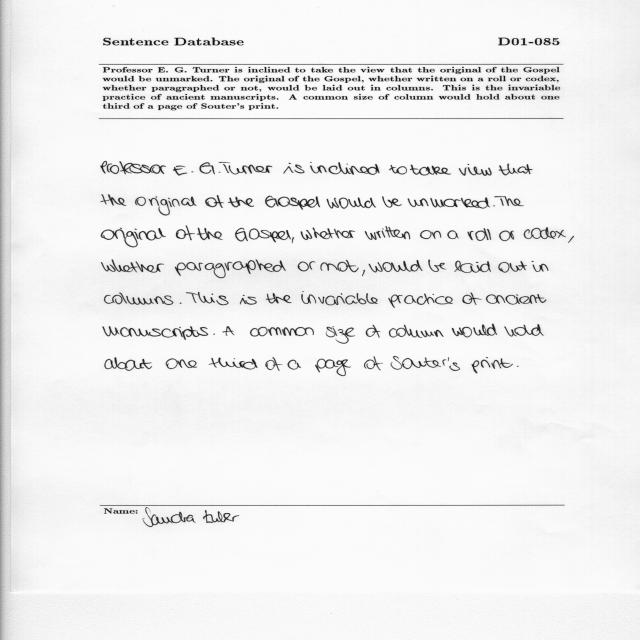word: (175, 260, 286, 278), (103, 326, 208, 340), (101, 228, 166, 247), (135, 197, 196, 216), (391, 356, 460, 371), (388, 293, 453, 308), (301, 293, 378, 305), (310, 162, 380, 175), (408, 198, 490, 209), (101, 162, 166, 175), (105, 293, 174, 305), (101, 260, 164, 273), (235, 228, 291, 242), (265, 196, 320, 210), (301, 227, 355, 240), (389, 325, 443, 338), (472, 357, 513, 374), (486, 294, 546, 305), (105, 357, 152, 371), (219, 162, 272, 174), (369, 260, 422, 272), (365, 226, 410, 240), (315, 359, 351, 376), (209, 358, 258, 370), (452, 324, 497, 337), (250, 327, 314, 336), (186, 292, 228, 305), (327, 198, 376, 209), (326, 326, 355, 344), (504, 324, 544, 337), (524, 227, 566, 239), (454, 260, 491, 273), (321, 260, 359, 272), (410, 165, 451, 176), (499, 164, 533, 176), (166, 358, 198, 369), (498, 261, 527, 273), (197, 228, 223, 240), (467, 164, 492, 176), (494, 196, 524, 206), (468, 228, 491, 241), (101, 195, 126, 206), (266, 293, 291, 304), (176, 226, 195, 240), (364, 356, 383, 370), (228, 197, 254, 207), (200, 163, 221, 175), (205, 195, 224, 208), (382, 196, 402, 208), (266, 357, 283, 371), (284, 163, 305, 174), (463, 293, 482, 305), (429, 260, 447, 272), (173, 166, 193, 176), (420, 230, 441, 239), (532, 261, 549, 272), (366, 325, 380, 338), (298, 262, 316, 272), (240, 295, 257, 305), (389, 165, 407, 174), (499, 231, 514, 241), (288, 360, 301, 370), (223, 326, 235, 336), (447, 230, 459, 239), (459, 167, 467, 176), (568, 236, 574, 243), (362, 270, 365, 276), (292, 237, 294, 243), (213, 333, 215, 335), (493, 206, 495, 207), (180, 303, 182, 304), (517, 366, 518, 367)
